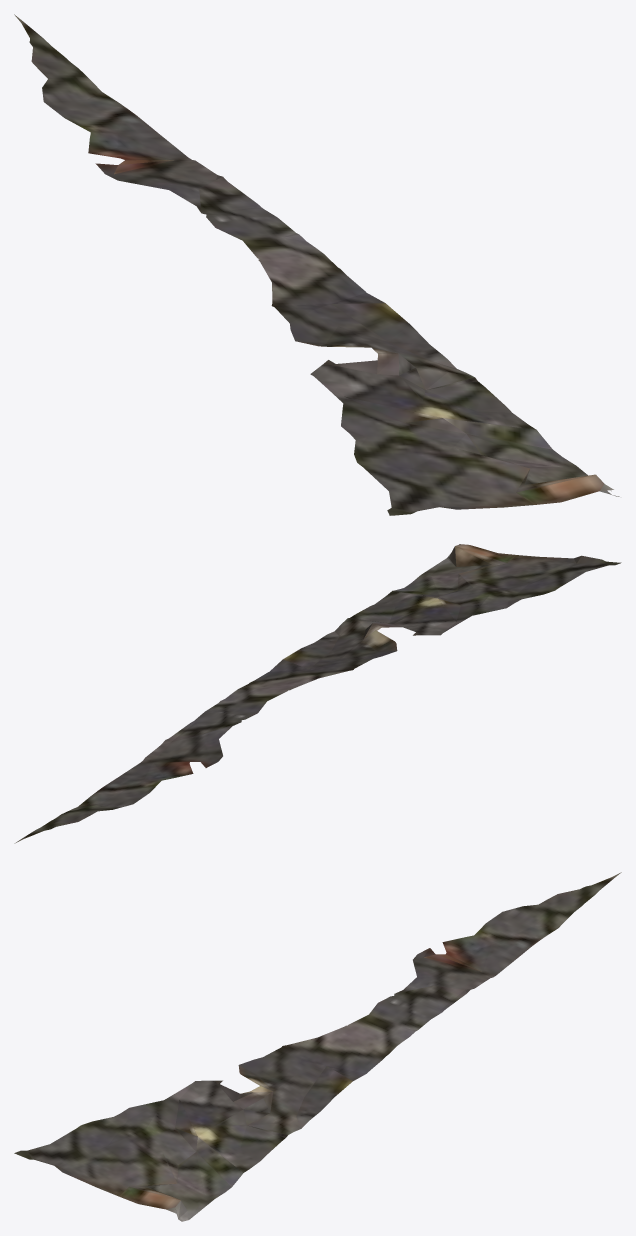
3 views of the same model, one above another, from view 1: azimuth 30°, elevation 25°; view 2: azimuth 150°, elevation 25°; view 3: azimuth 330°, elevation 25° (orthographic). The views are drawn at different scales.
Size of the model in its own units: 0.3349 by 0.0591 by 1.52.
1 material, 1 textured.
